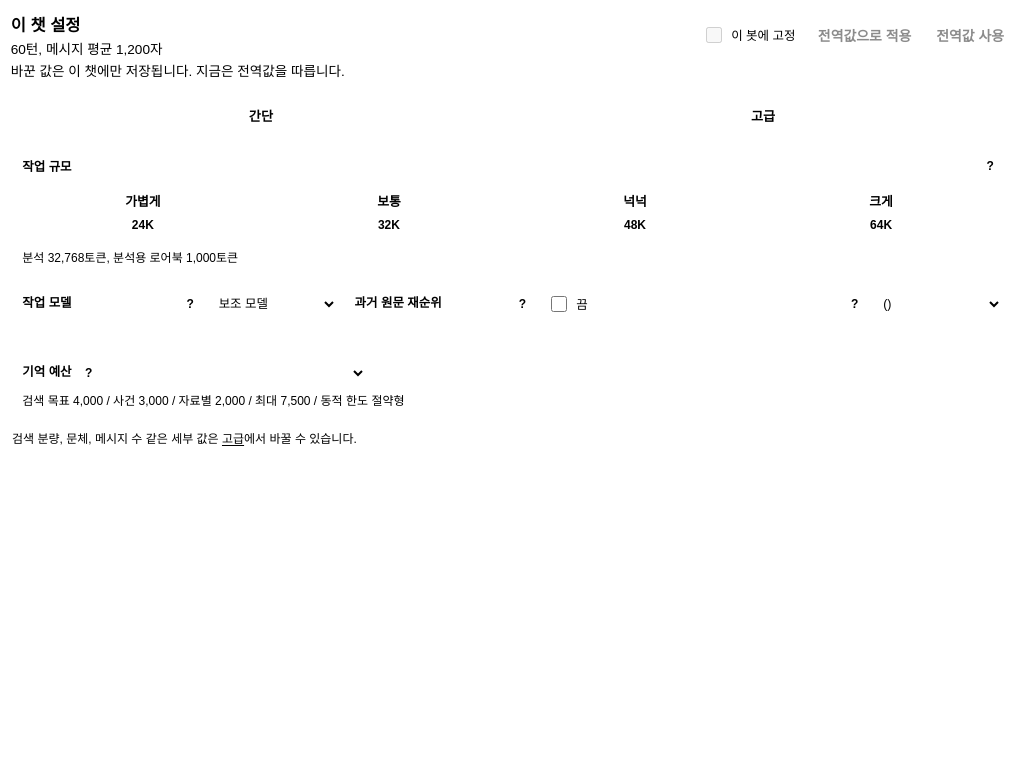
RisuBardCurrentChatSettings › the simple view shows the work scale, model, source rerank and language and writes a scale to the chat
Click the radio button labelled "크게 64K" at (881, 201), box [869, 194, 893, 232]
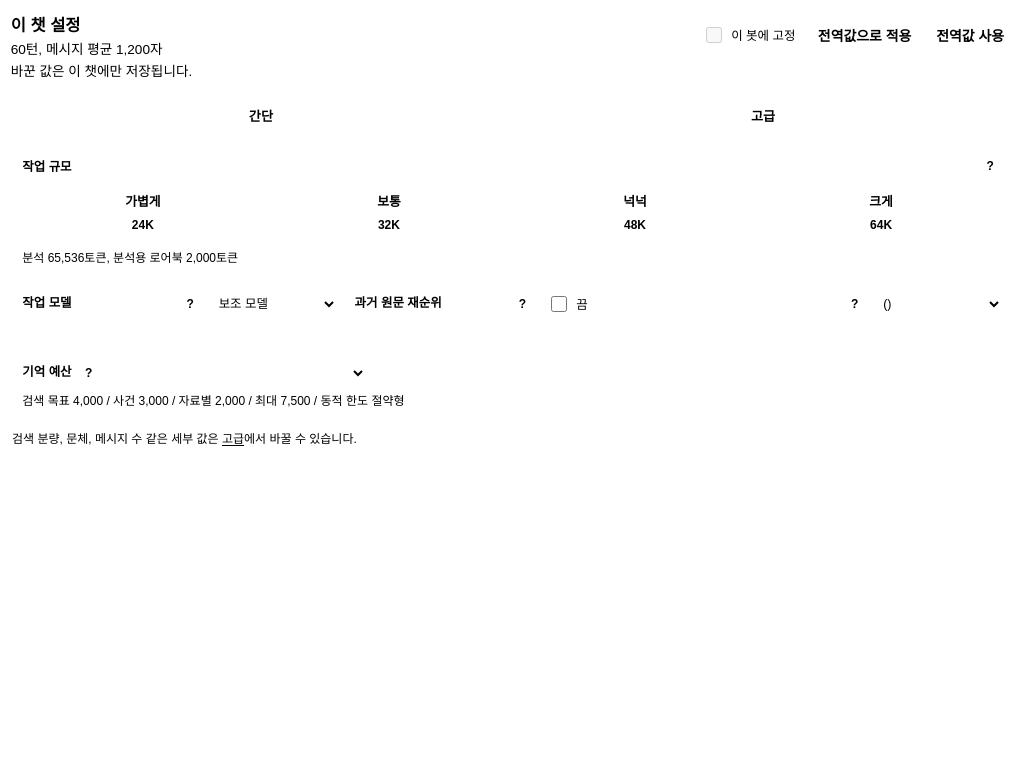
Click the 1st button "고급" at (763, 115), box [513, 99, 1013, 131]
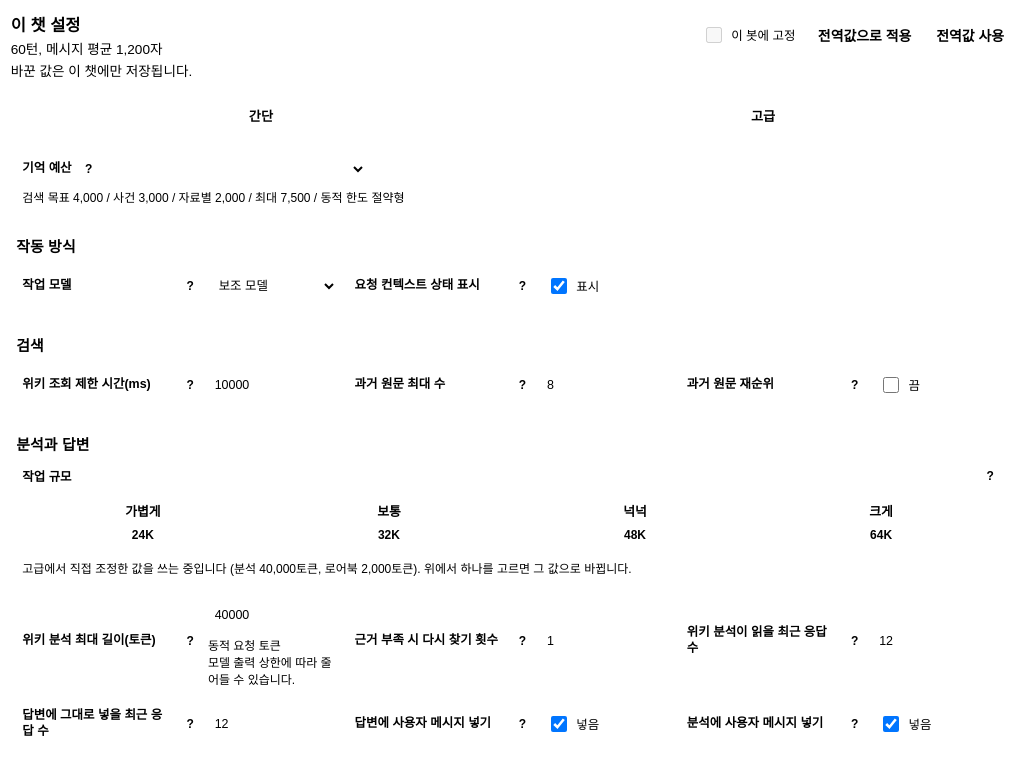
Now the number field with id "bardwiki-analysis-tokens" holds "40000", box [208, 594, 351, 635]
Click the button "간단" at (261, 115), box [11, 99, 511, 131]
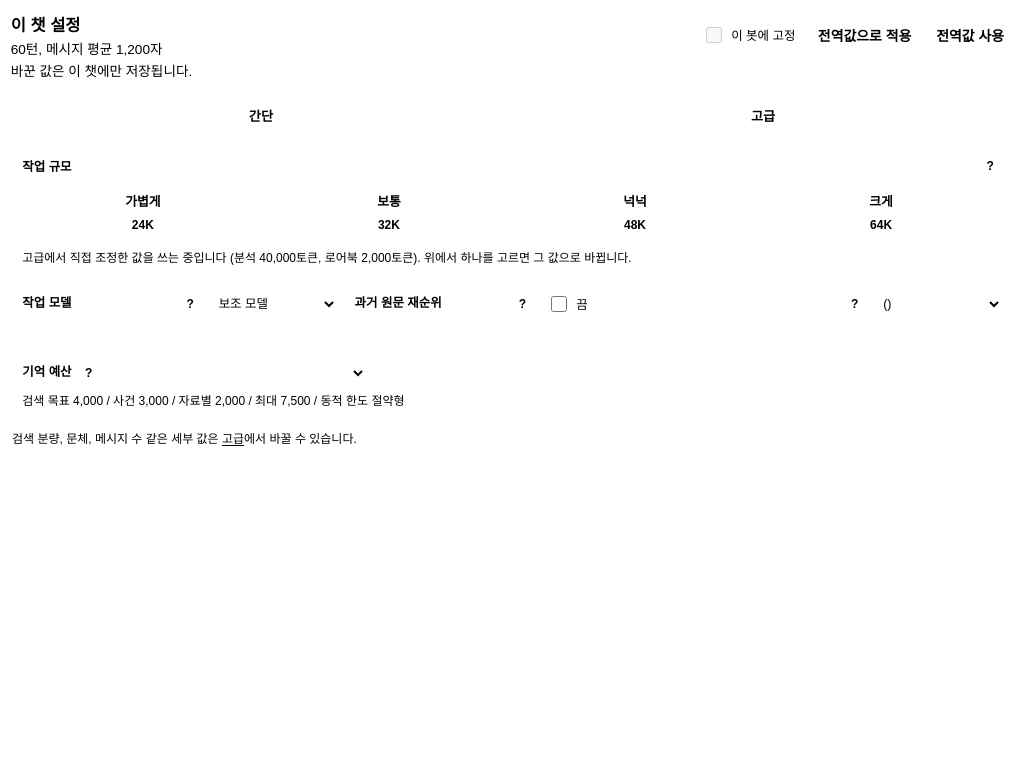
Now the text "40,000" is shown, box [22, 251, 632, 265]
Now the label with id "bardwiki-analysis-tokens" is gone
